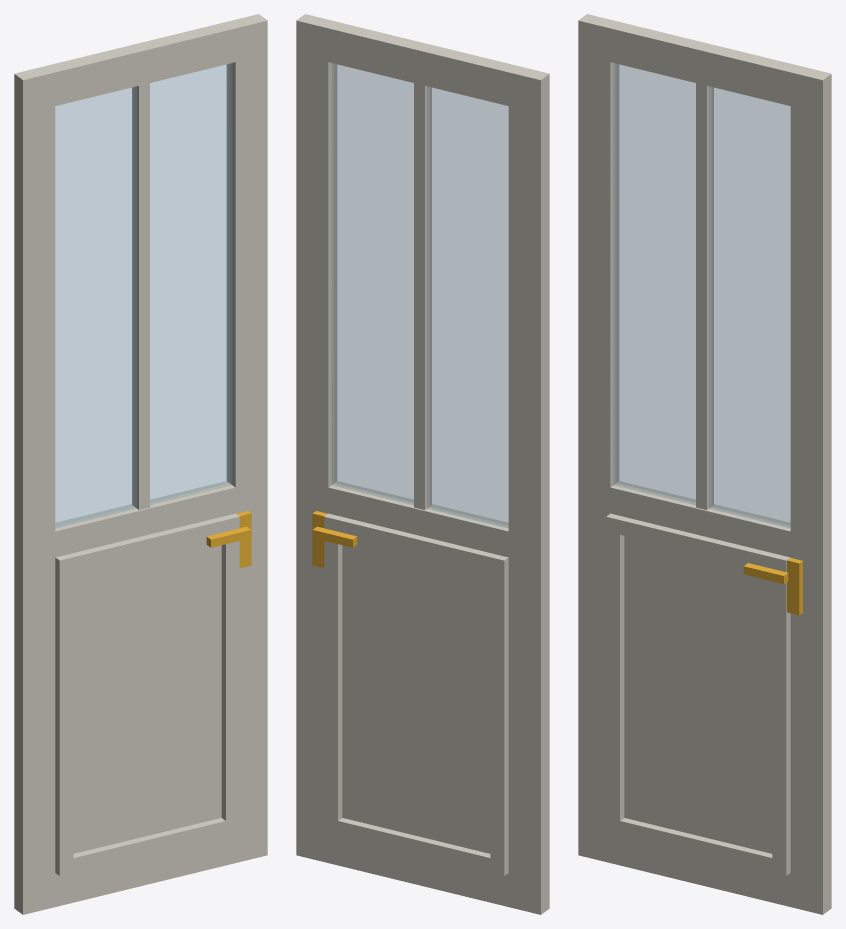
The model's file is SM_Door_ra_80x258.fbx.
The picture shows the model from 3 angles, left to right: view 1: azimuth 30°, elevation 25°; view 2: azimuth 150°, elevation 25°; view 3: azimuth 330°, elevation 25°; orthographic projection.
Parts seen in each view (by area): view 1: SM_Door_ra_80x258; view 2: SM_Door_ra_80x258; view 3: SM_Door_ra_80x258.
Boxes of the visible parts, bbox=[...] form: SM_Door_ra_80x258: bbox=[14, 14, 267, 914]; SM_Door_ra_80x258: bbox=[296, 14, 549, 914]; SM_Door_ra_80x258: bbox=[578, 14, 831, 914].
Bounding box in the file's own units: 0.788 × 2.57 × 0.175.
